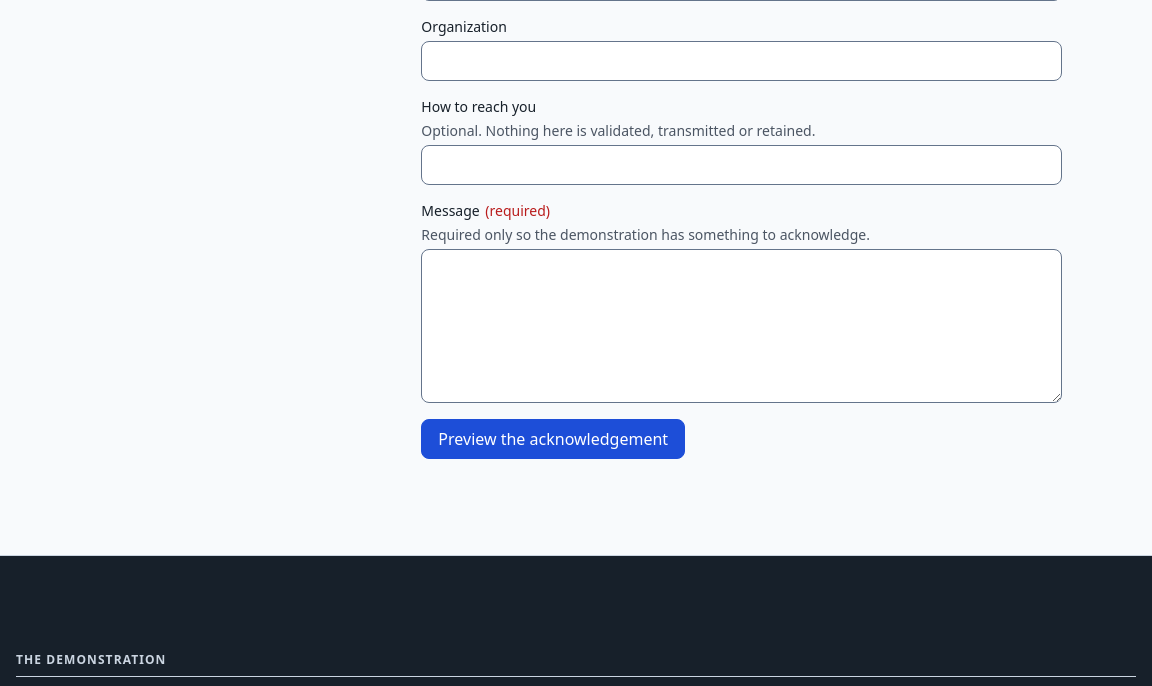
The contact form cannot send (AC-38 – AC-40) › performs no network or storage side effect on submit
The image size is (1152, 686).
(page scrolled)
In the text box labelled "Message (required)": (742,326) [421,249,1062,403], type "A note that will not go anywhere."
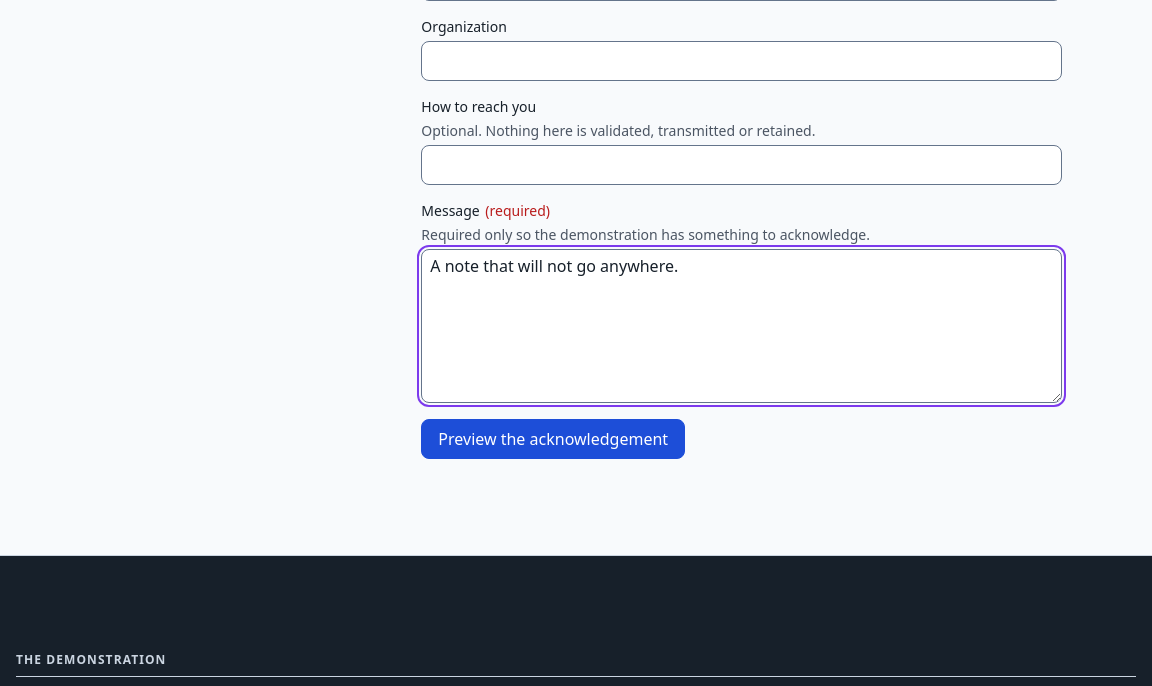
Click the button "Preview the acknowledgement": (553,439) [421,419,685,459]
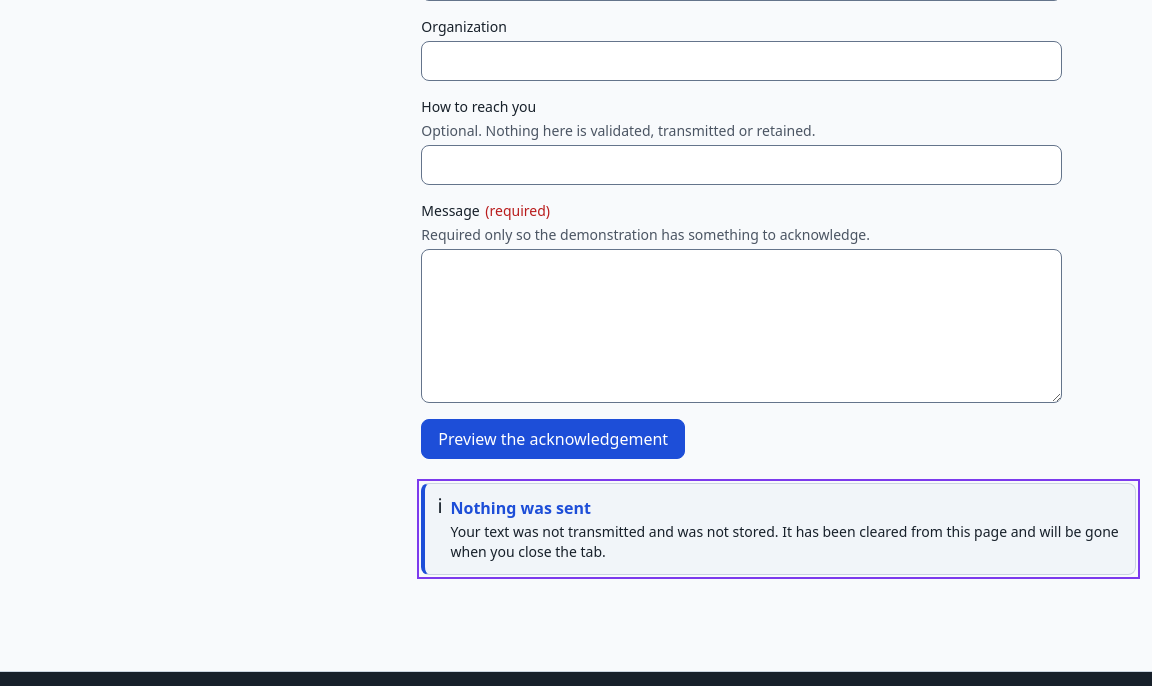
Check: the text "Nothing was sent" is shown, box [450,497,591,519]
